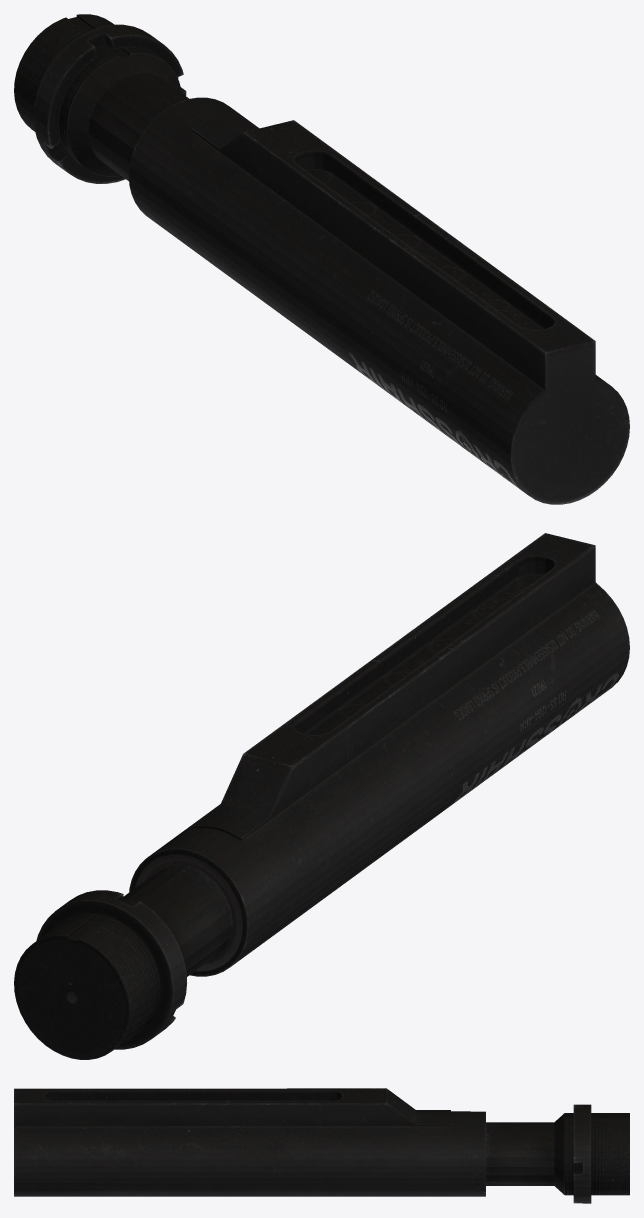
3 renders of one model, top to bottom at view 1: azimuth 30°, elevation 25°; view 2: azimuth 150°, elevation 25°; view 3: azimuth 270°, elevation 25°, orthographic. The views are drawn at different scales.
Visible parts, largest first — view 1: TW_5ef1ba28c64c5d0dfc0571a5_PZ_Import; view 2: TW_5ef1ba28c64c5d0dfc0571a5_PZ_Import; view 3: TW_5ef1ba28c64c5d0dfc0571a5_PZ_Import.
Part boxes in pixels (bbox=[...]): TW_5ef1ba28c64c5d0dfc0571a5_PZ_Import: bbox=[14, 14, 629, 504]; TW_5ef1ba28c64c5d0dfc0571a5_PZ_Import: bbox=[14, 533, 629, 1059]; TW_5ef1ba28c64c5d0dfc0571a5_PZ_Import: bbox=[14, 1088, 629, 1203].
Bounding box in the file's own units: 0.02 × 0.1244 × 0.0229.
Materials: 1 (1 with a texture image).
